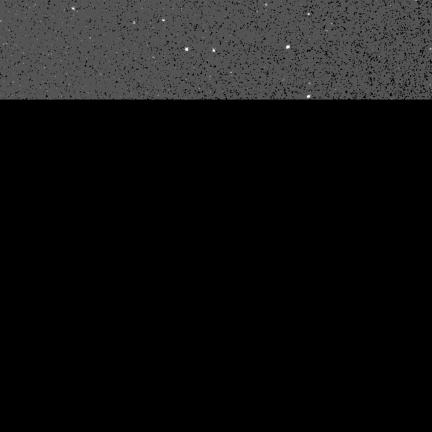blob: (185, 47, 188, 51), (307, 95, 310, 98), (72, 7, 75, 10), (286, 45, 289, 48)
